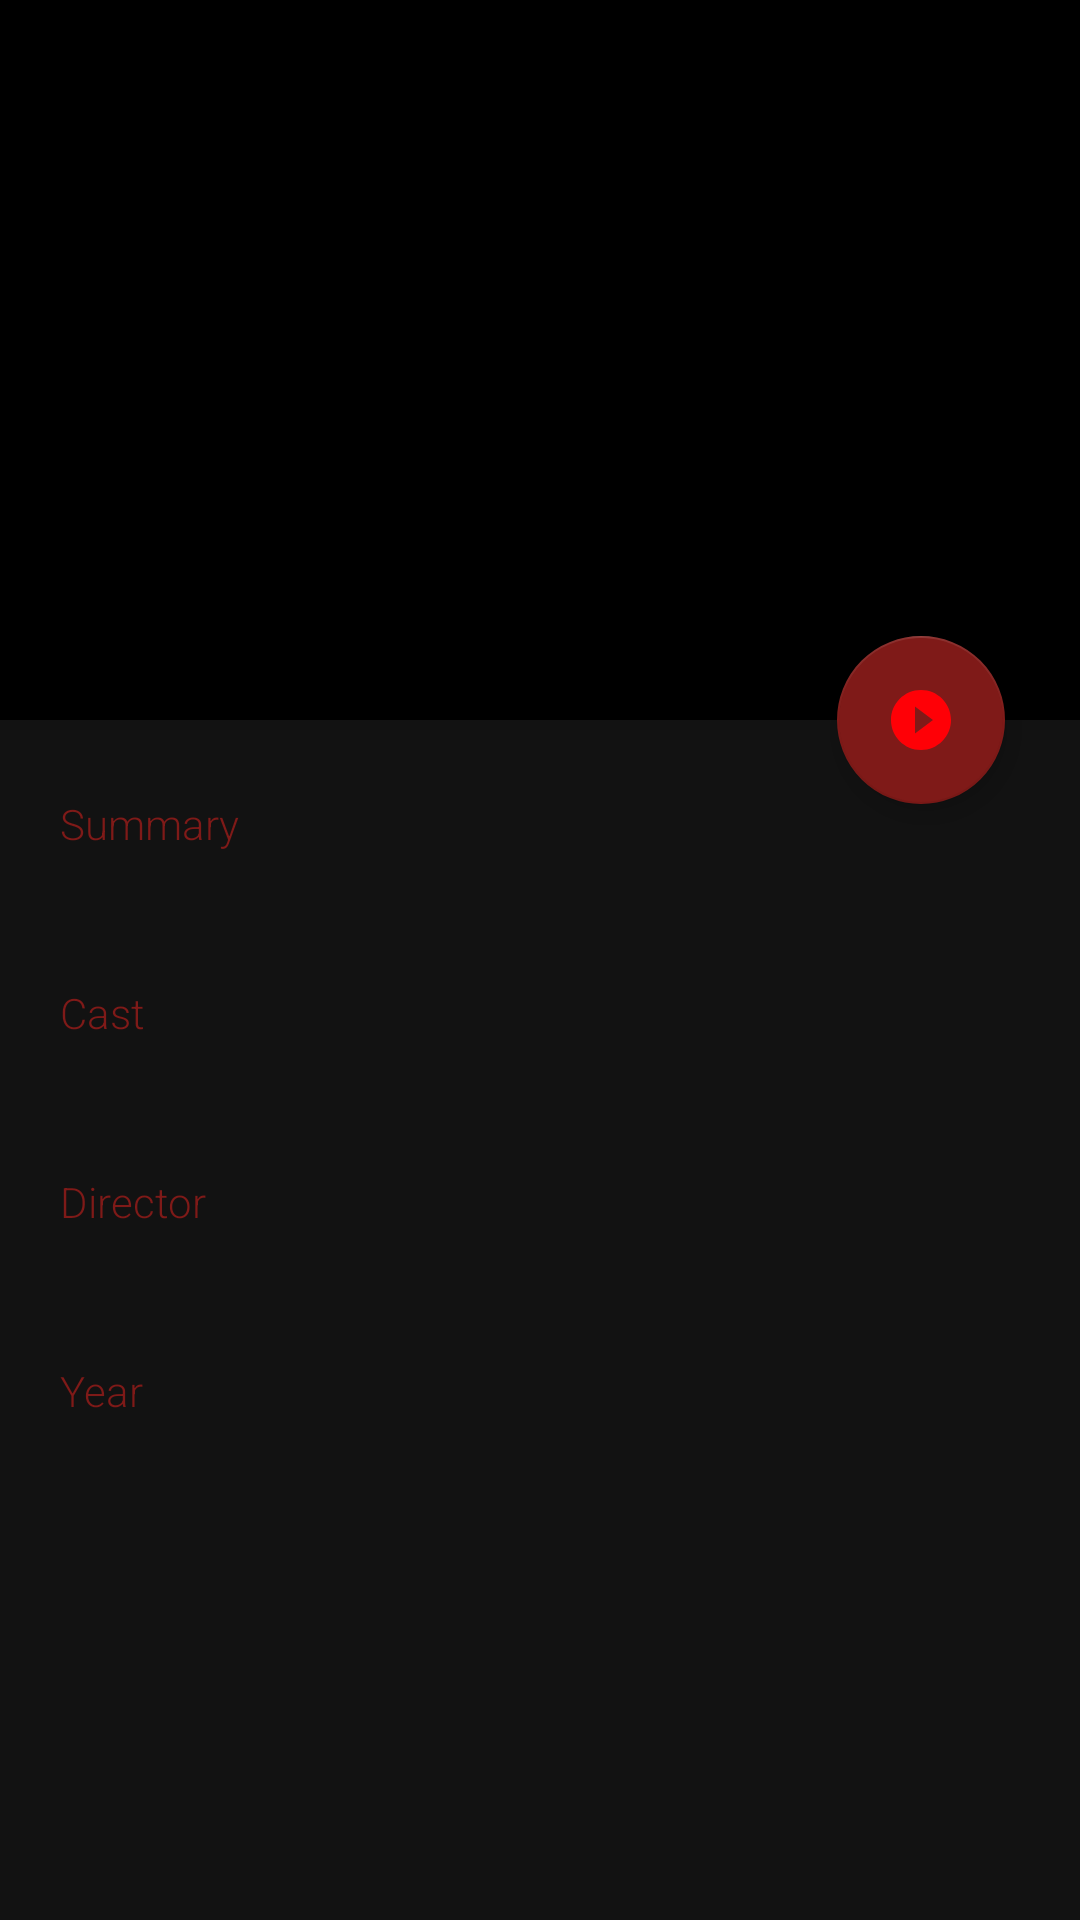

Locate icon controls on the screen. Image size 1080px x 1920px, boxes as (x1, y1, x2, y2).
play circle: (837, 636, 1005, 804)
